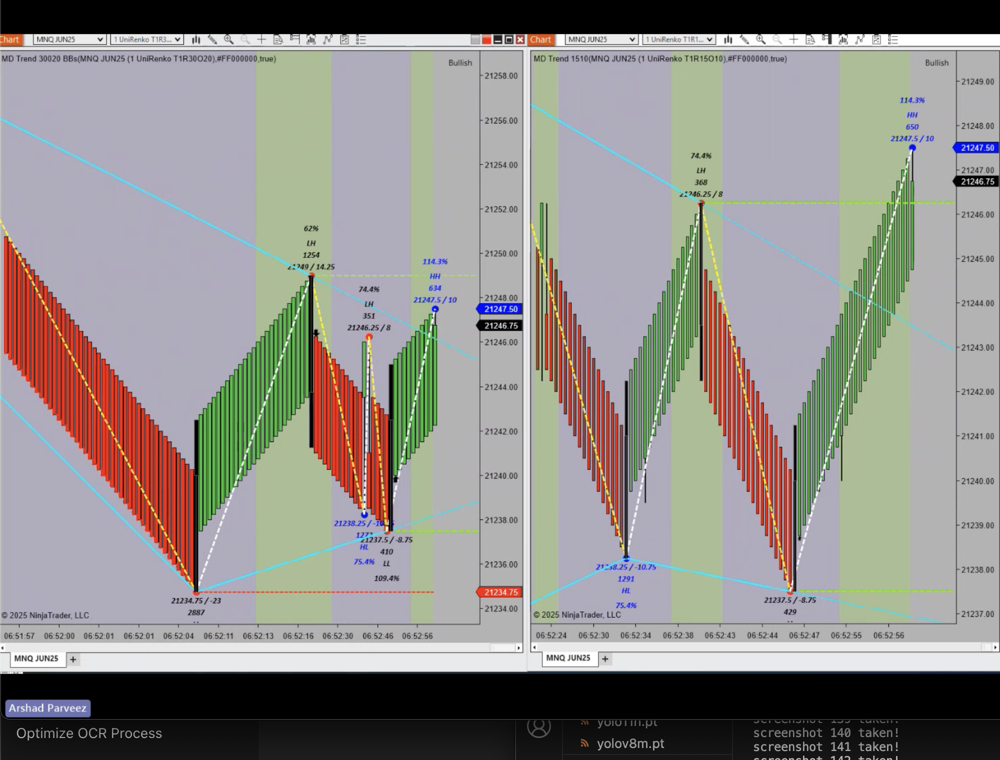HH: (902, 106, 923, 124), (426, 269, 447, 284)
HL: (615, 580, 637, 599), (355, 537, 373, 556)
LH: (359, 296, 383, 315), (690, 163, 717, 179), (301, 237, 324, 251)
LL: (380, 553, 400, 576)
